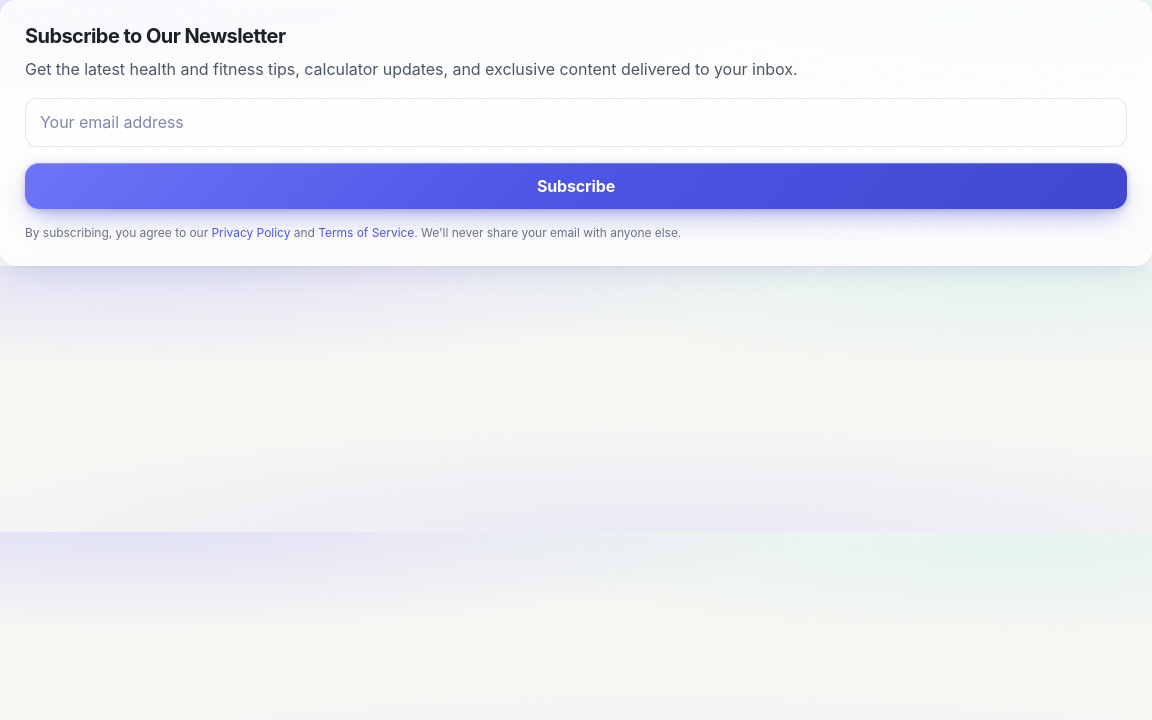
NewsletterSignup › Loading States › should disable input and button during loading
Type "test@example.com" into the field labelled "Your email address" at [576, 123], box x1=25 y1=98 x2=1127 y2=147
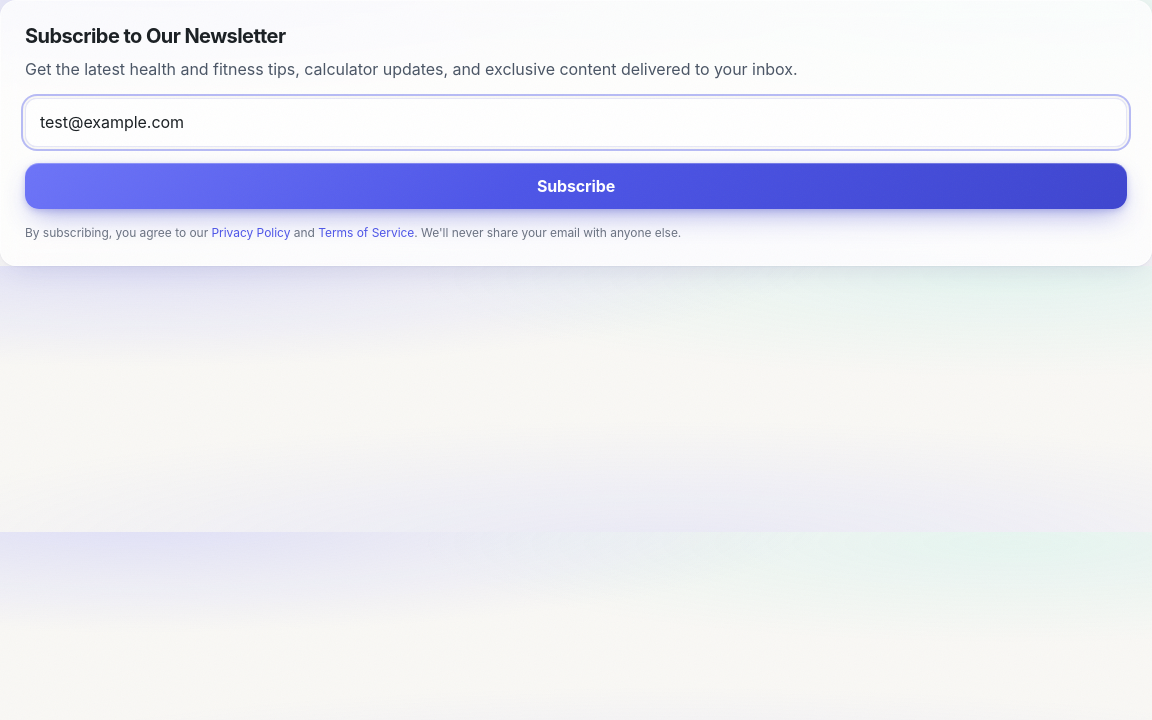
Click the button "Subscribe" at [576, 186], box x1=25 y1=163 x2=1127 y2=209
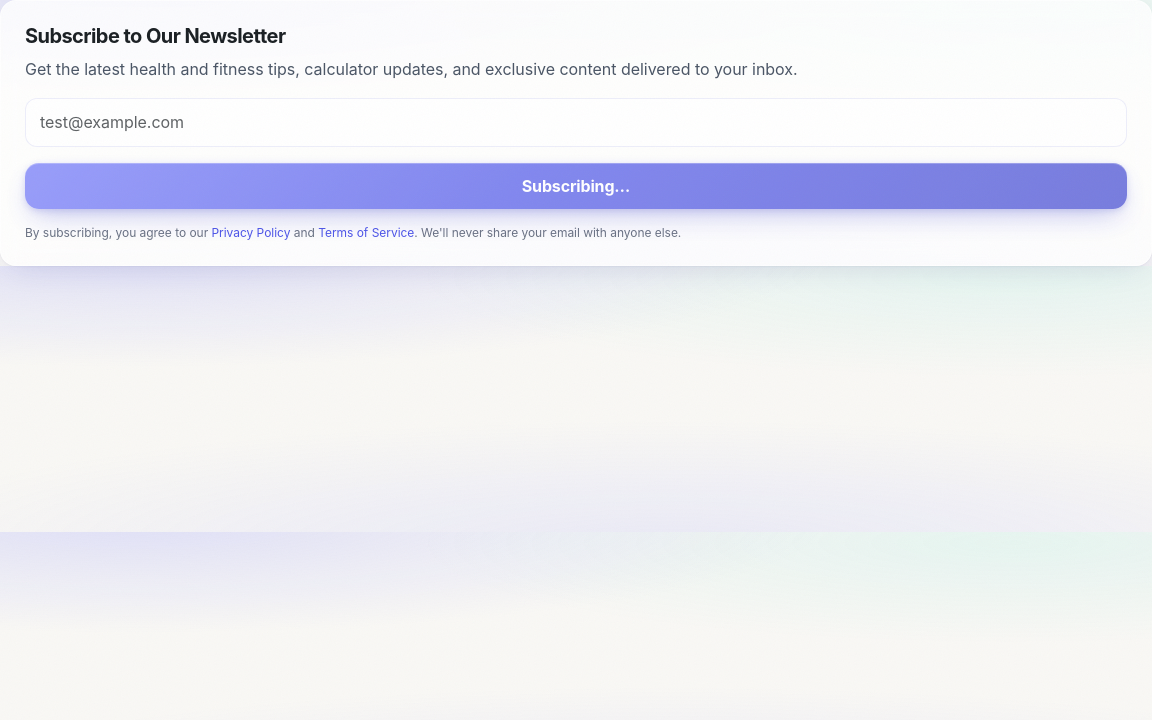
Result: the field named "email address" is disabled at x1=25 y1=98 x2=1127 y2=147
Result: the button is disabled at x1=25 y1=163 x2=1127 y2=209
